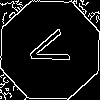V: (25, 25, 80, 73)
